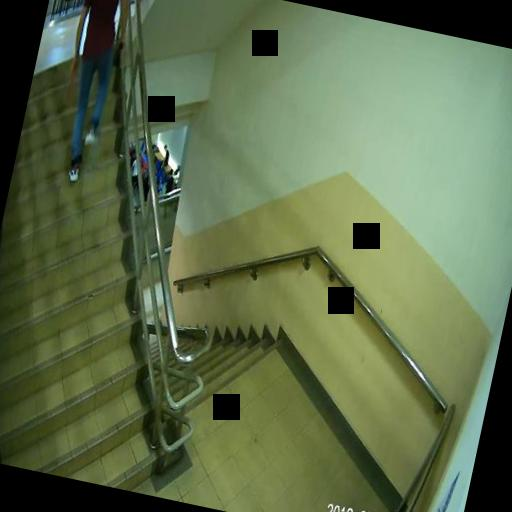Handgun: (110, 35, 124, 67)
